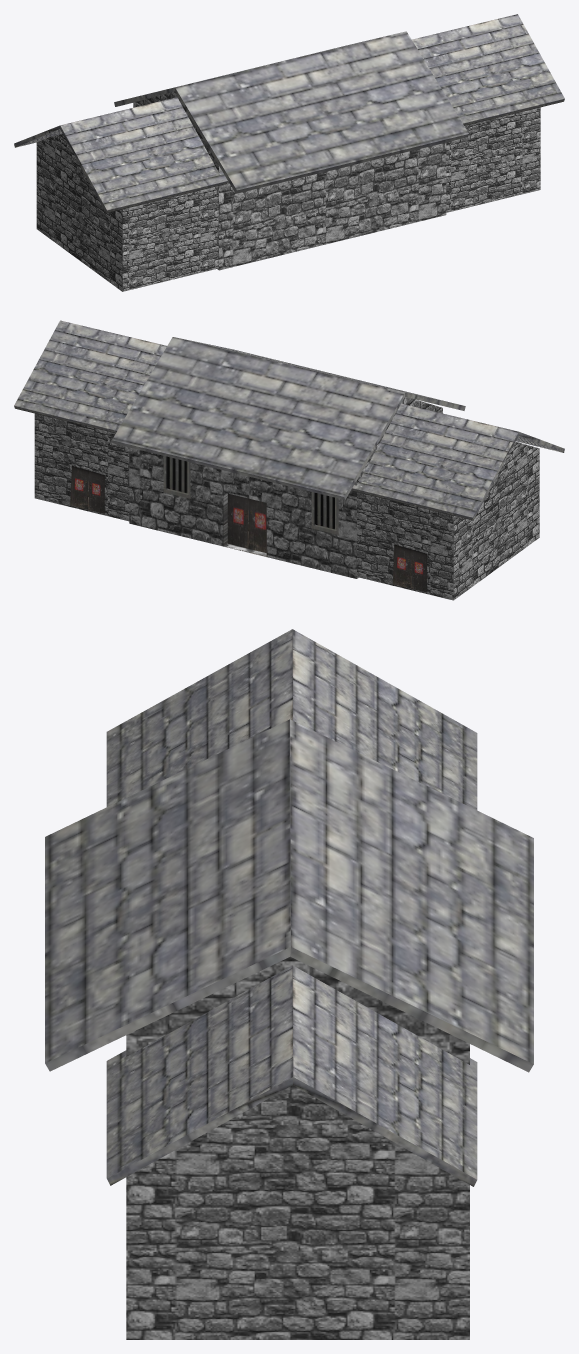
Rendered from forest_house.fbx.
3 views of the same model, one above another, from view 1: azimuth 30°, elevation 25°; view 2: azimuth 150°, elevation 25°; view 3: azimuth 270°, elevation 25° (orthographic). The views are drawn at different scales.
Visible parts, largest first — view 1: pCube7, pCube1, pCube4, pCube8, pCube9, pCube3; view 2: pCube7, pCube1, pCube4, pCube8, pCube9, pCube3; view 3: pCube7, pCube3, pCube9, pCube8, pCube1.
Boxes of the visible parts, x1,y1,x2,y2 form: pCube7: (114, 31, 468, 193); pCube1: (133, 91, 446, 270); pCube4: (36, 134, 218, 291); pCube8: (14, 97, 227, 213); pCube9: (412, 14, 564, 125); pCube3: (446, 107, 540, 212); pCube7: (112, 337, 465, 499); pCube1: (129, 397, 442, 578); pCube4: (357, 441, 539, 600); pCube8: (352, 403, 564, 520); pCube9: (14, 320, 166, 433); pCube3: (34, 413, 129, 521); pCube7: (45, 719, 533, 1072); pCube3: (126, 1085, 469, 1339); pCube9: (106, 965, 477, 1186); pCube8: (106, 629, 477, 810); pCube1: (126, 956, 469, 1064).
Size of the model in its own units: 16.54 by 5.31 by 7.64.
1 material, 1 textured.
